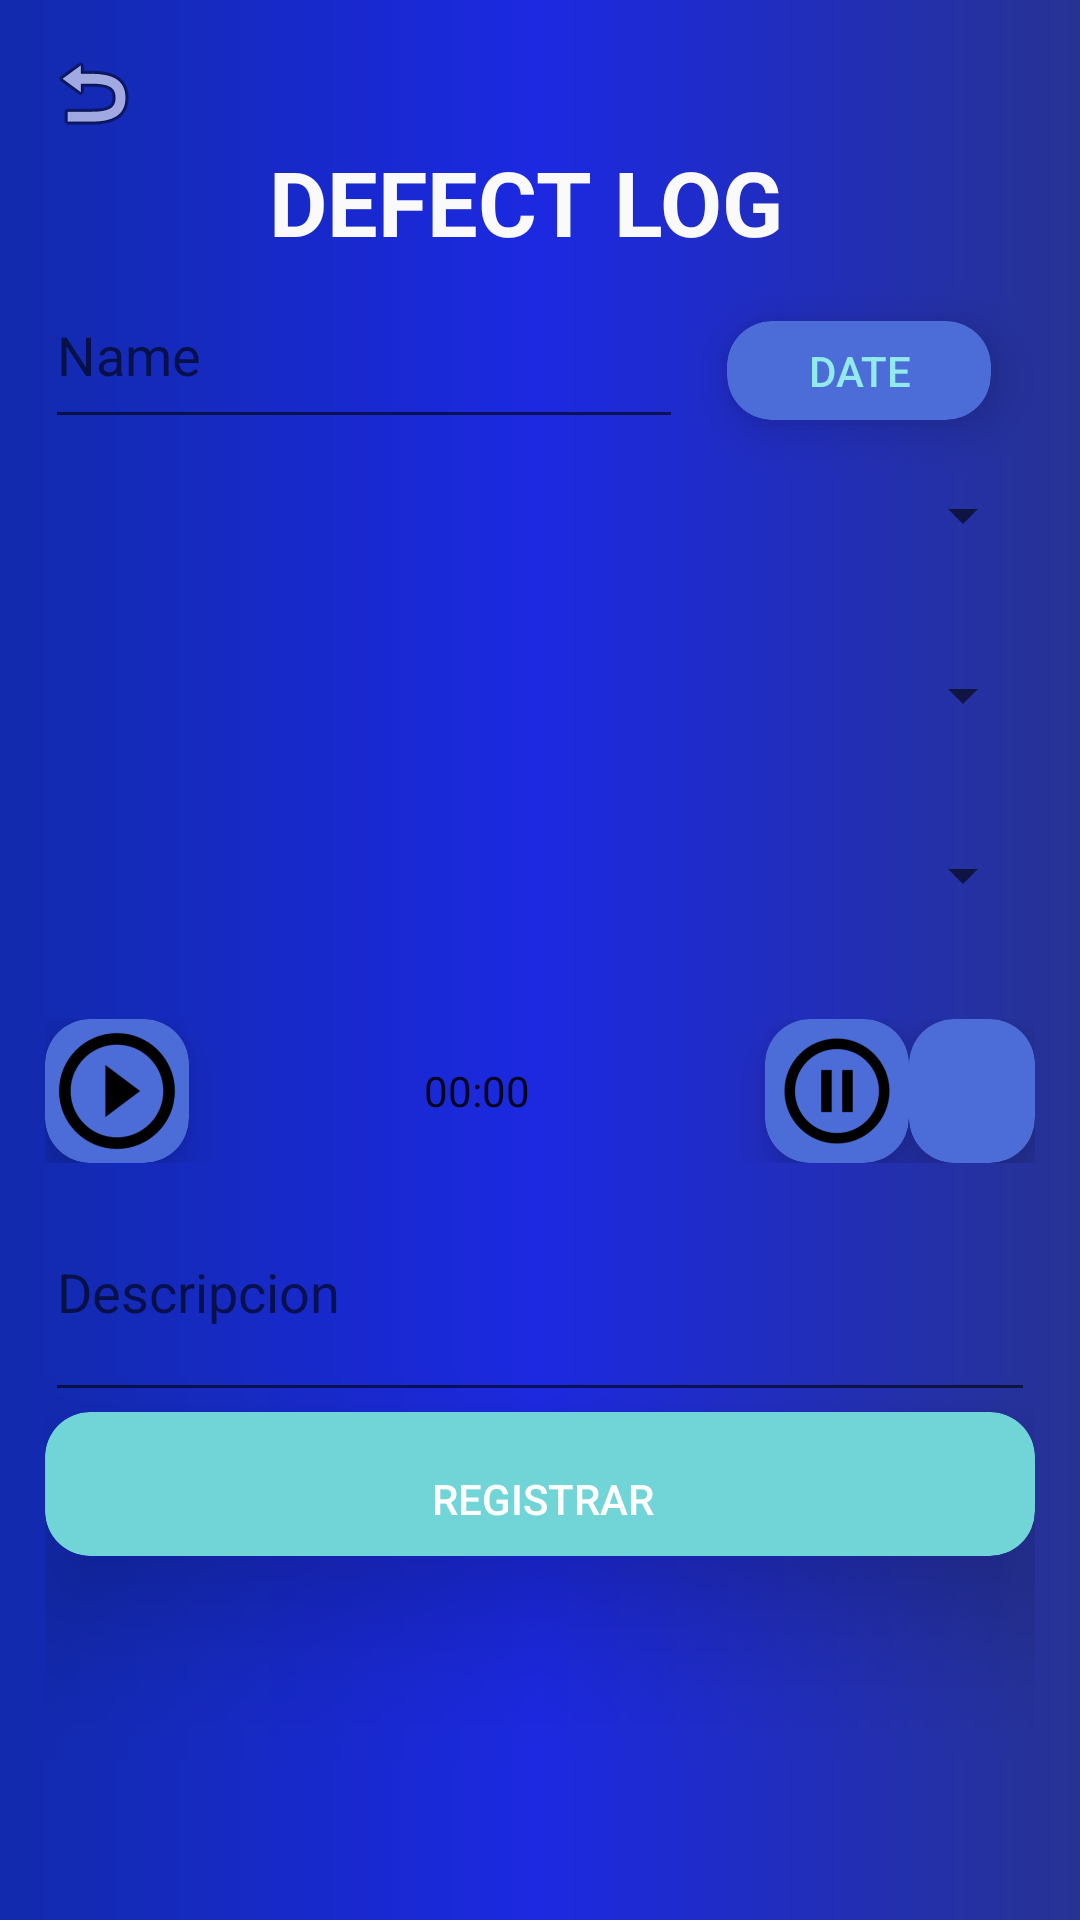

Named icons in this screenshot (1080px x 1920px) and their centers, point (x, y):
play: point (117, 1091)
revert: point (94, 93)
